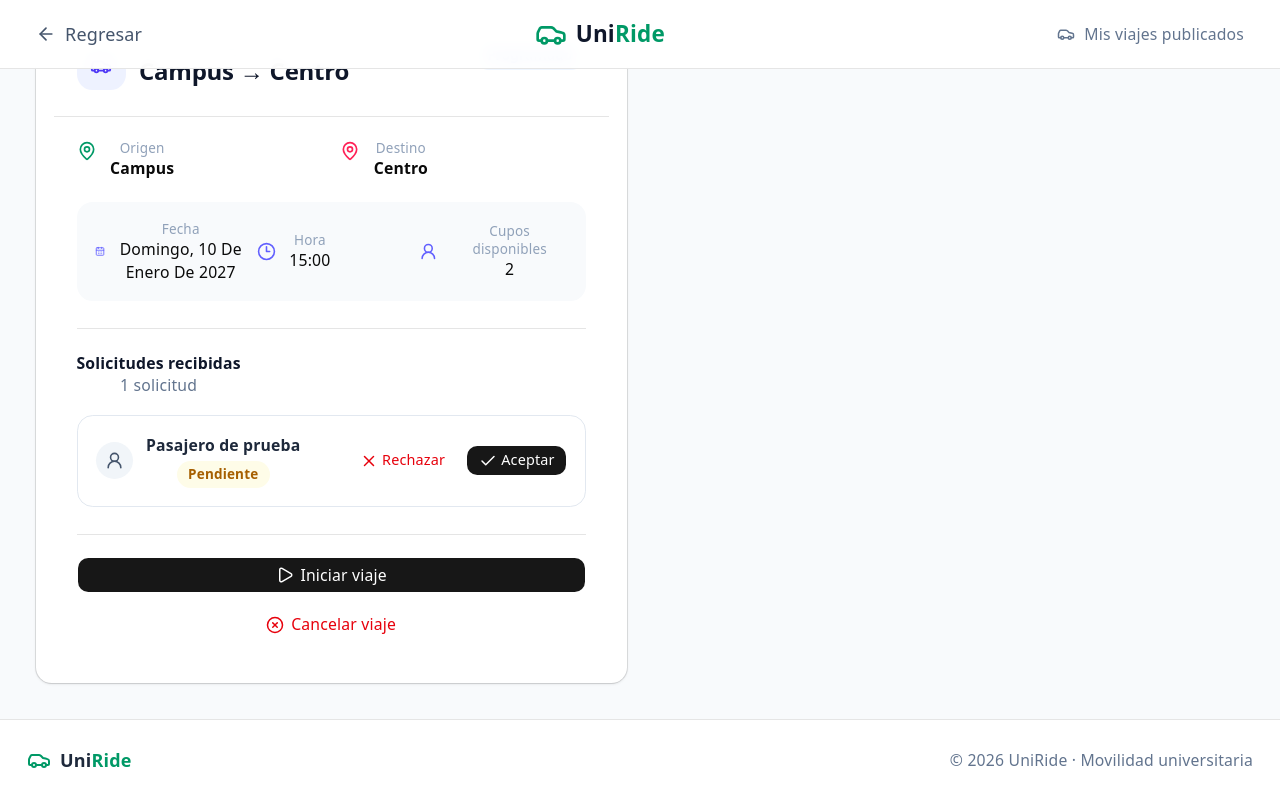
Scenario: MisViajes: respuesta a solicitudes › Aceptar envía el estado al backend y actualiza la solicitud
The width and height of the screenshot is (1280, 800).
(page scrolled)
Click the button "Aceptar". click: point(517, 461)
box: [466, 445, 567, 476]
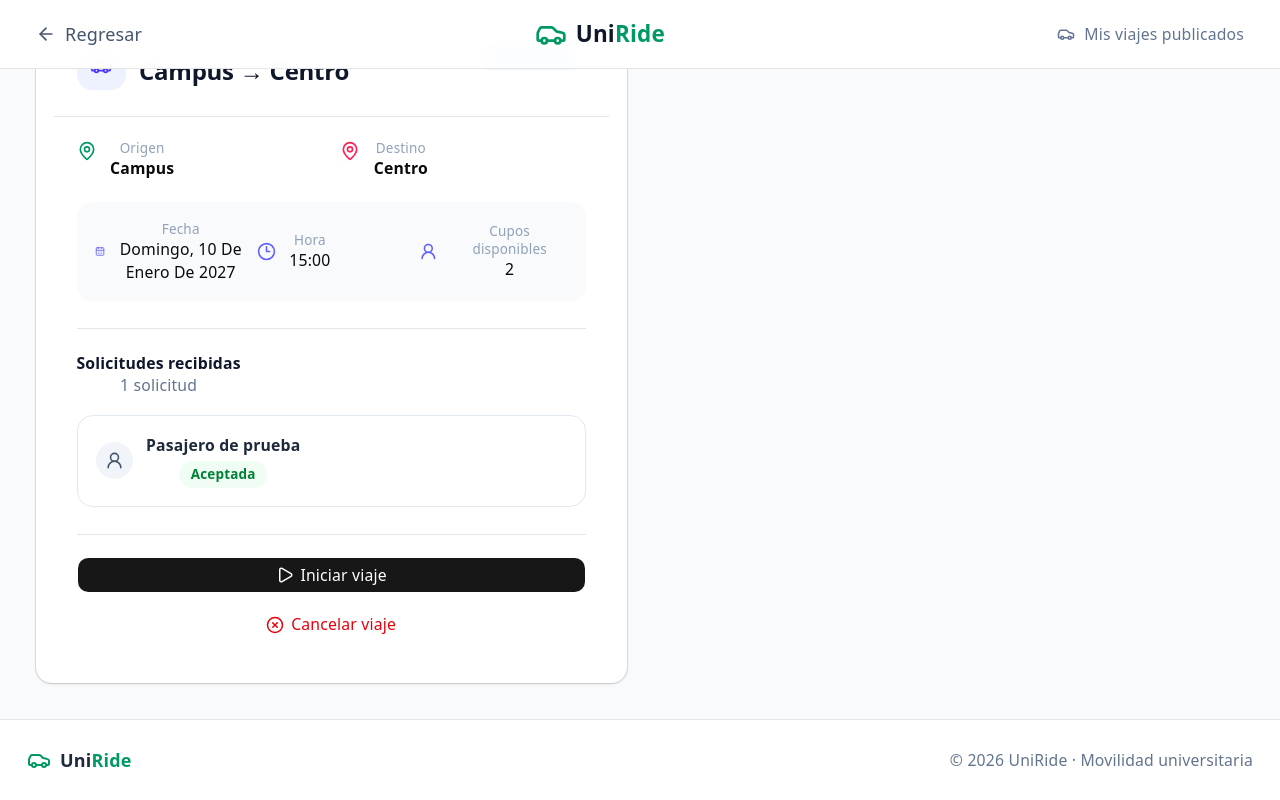
Expected: the text "Aceptada" is shown, [180, 461, 267, 488]
